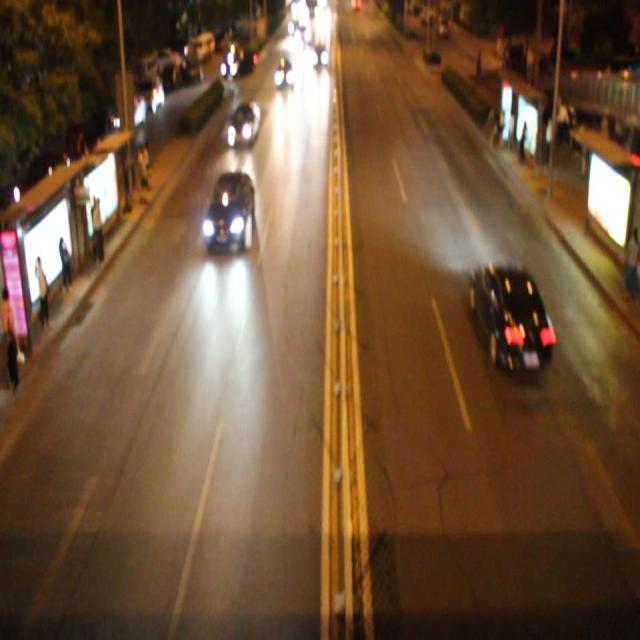car: (470, 263, 553, 375), (203, 171, 255, 258), (229, 100, 260, 150), (274, 56, 294, 90)
